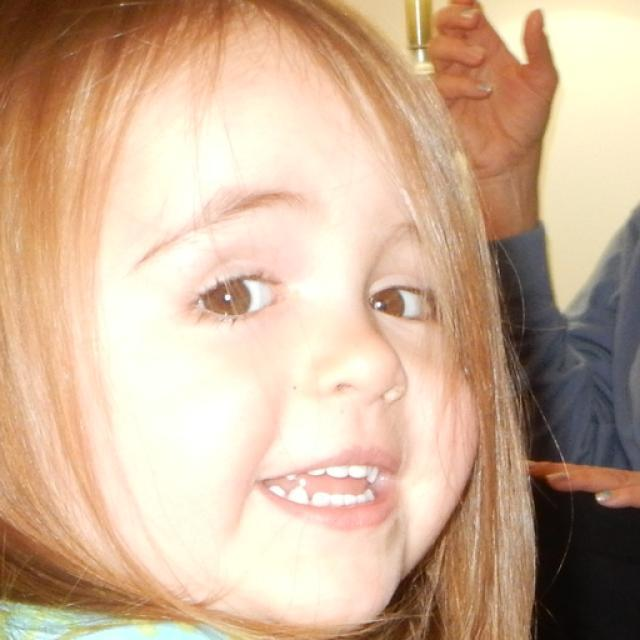happy: (92, 75, 480, 628)
